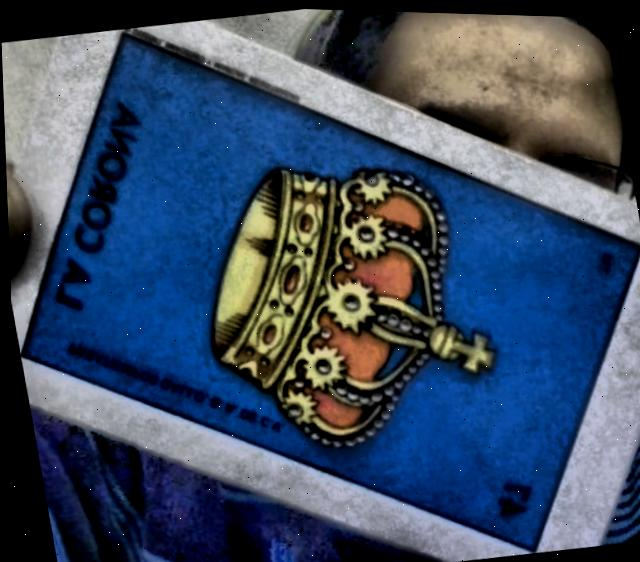La Corona: (19, 33, 640, 547)
